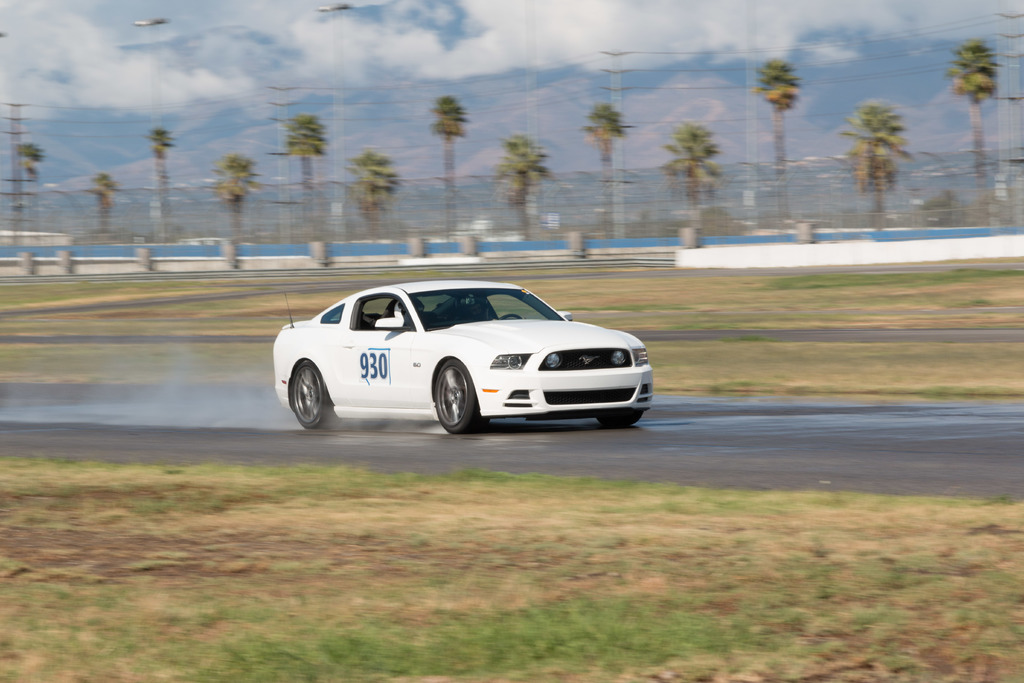Car: (277, 267, 648, 440)
